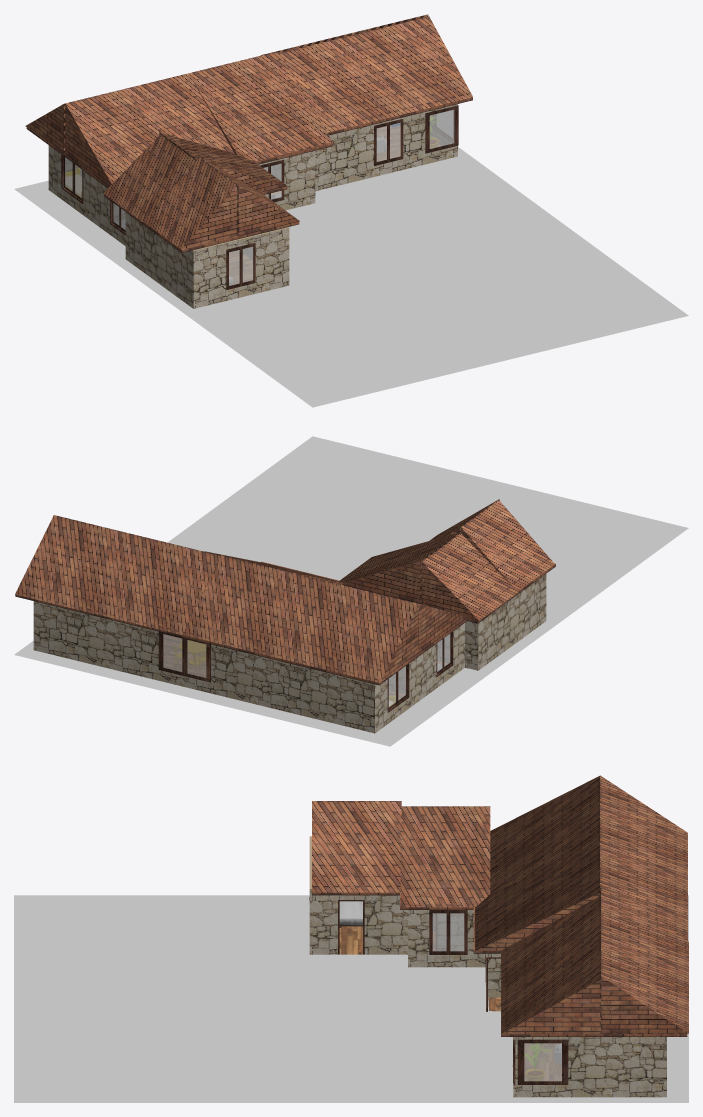
The model's file is CasaBosque.fbx.
The picture shows the model from 3 angles, top to bottom: view 1: azimuth 30°, elevation 25°; view 2: azimuth 150°, elevation 25°; view 3: azimuth 270°, elevation 25°; orthographic projection. The views are drawn at different scales.
Parts seen in each view (by area): view 1: casa bosque; view 2: casa bosque; view 3: casa bosque.
Boxes of the visible parts, x1,y1,x2,y2 form: casa bosque: (14, 14, 688, 407); casa bosque: (14, 436, 688, 746); casa bosque: (14, 775, 688, 1102).
Size of the model in its own units: 1701 by 482 by 2338.
Materials: 43 (11 with a texture image).
